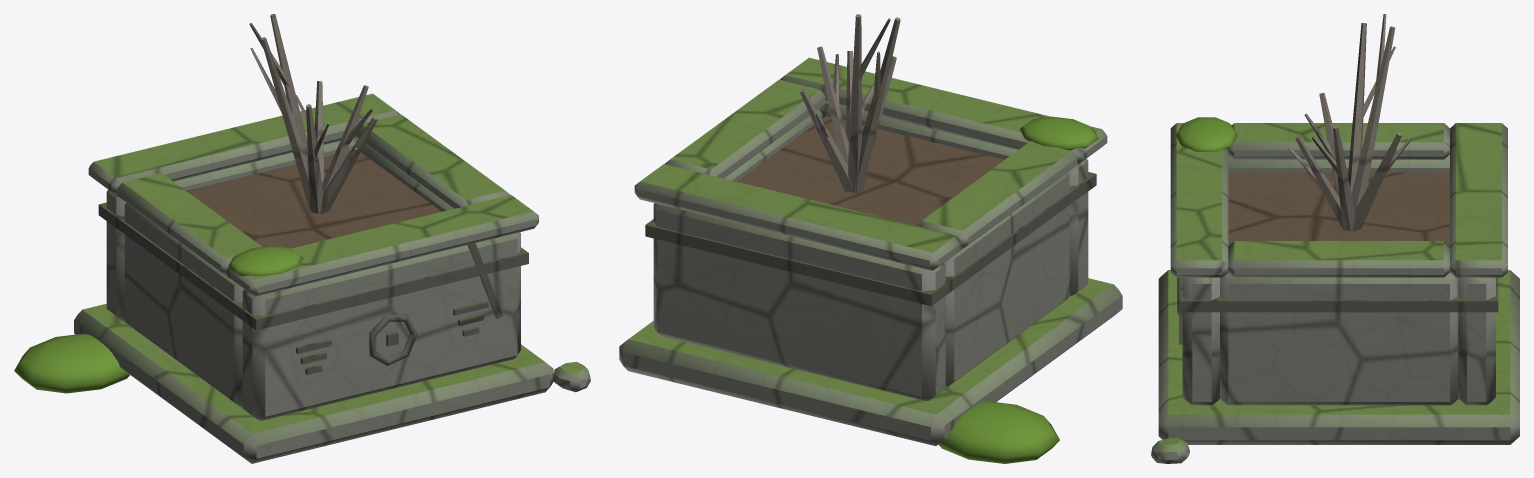
The model's file is stone_planter.glb.
The picture shows the model from 3 angles, left to right: view 1: azimuth 30°, elevation 25°; view 2: azimuth 150°, elevation 25°; view 3: azimuth 270°, elevation 25°; orthographic projection. The views are drawn at different scales.
Visible parts, largest first — view 1: stone_planter; view 2: stone_planter; view 3: stone_planter.
Part boxes in pixels (x1,y1,x2,y2): stone_planter: (14, 14, 590, 463); stone_planter: (619, 14, 1122, 463); stone_planter: (1151, 14, 1519, 463).
Bounding box in the file's own units: 2.05 × 1.63 × 1.53.
5 materials, 5 textured.
